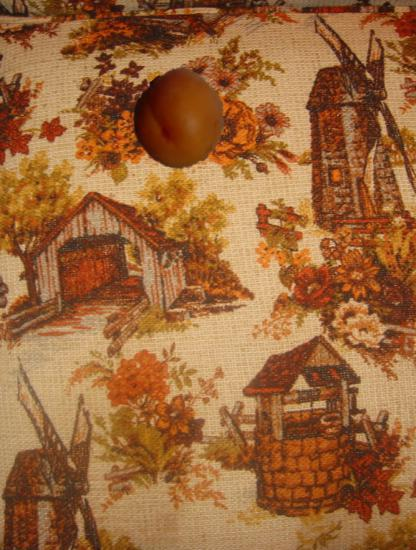Apricot: (131, 72, 227, 168)
